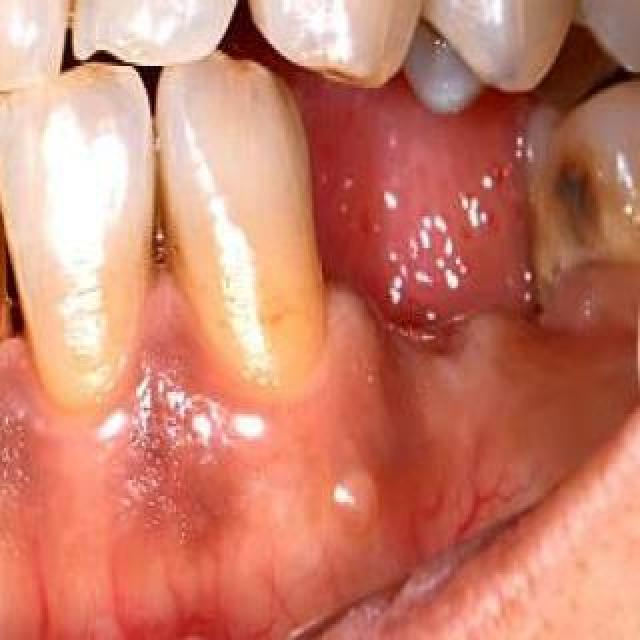cavities: (534, 152, 620, 270)
missing: (274, 110, 554, 334)
plaque: (136, 166, 198, 322), (412, 0, 476, 26)
spacing: (36, 0, 124, 30)
stains: (202, 263, 330, 387), (0, 232, 40, 382)
